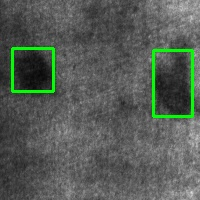patches: (153, 50, 192, 116), (12, 48, 53, 91)
